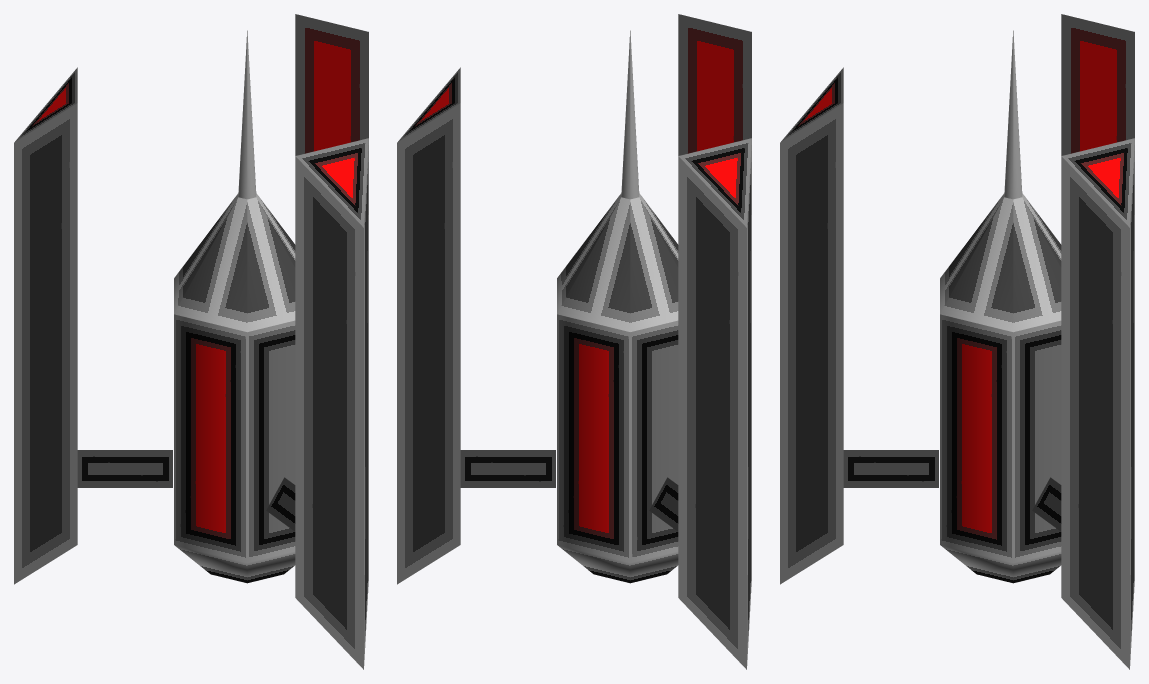
Rendered from Grapple.obj.
The picture shows the model from 3 angles, left to right: view 1: azimuth 30°, elevation 25°; view 2: azimuth 150°, elevation 25°; view 3: azimuth 270°, elevation 25°; orthographic projection.
Bounding box in the file's own units: 1.91 × 2.9 × 1.67.
Materials: 1 (1 with a texture image).
